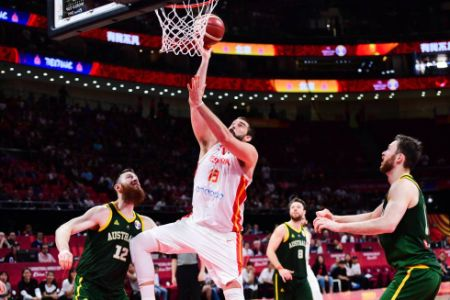baloncesto: (192, 14, 225, 46)
